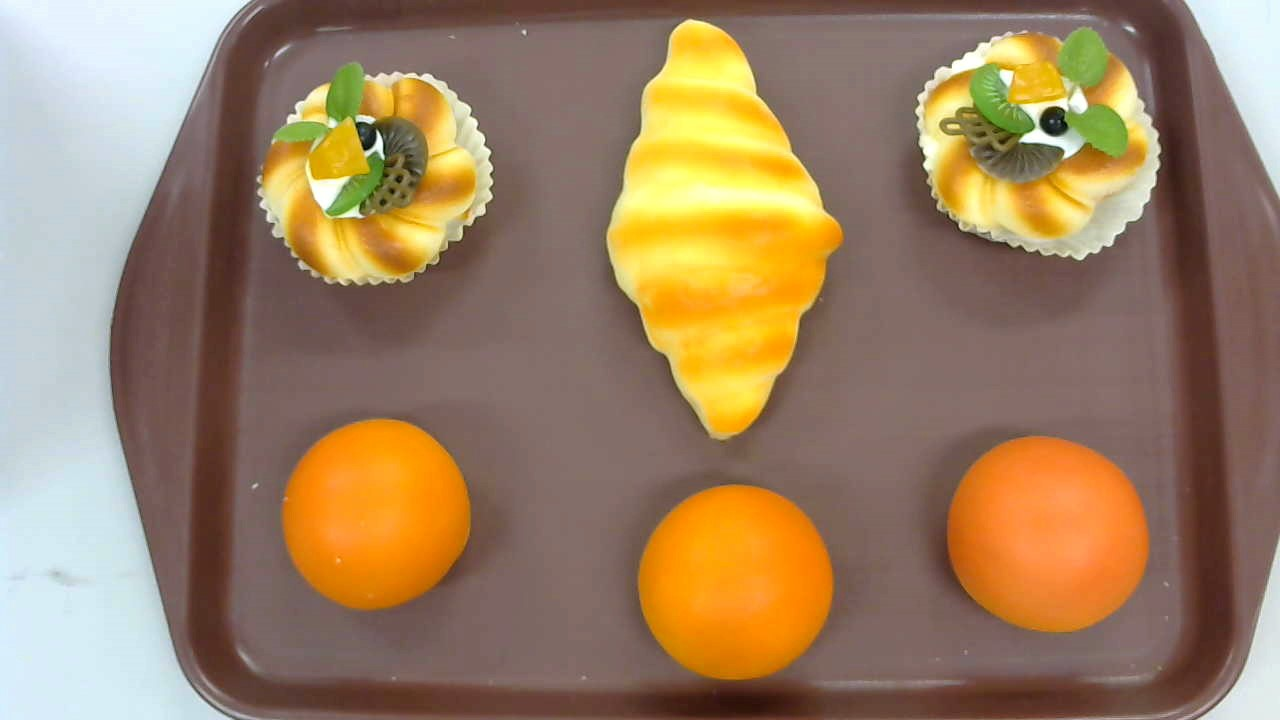bun: (944, 434, 1148, 633), (638, 485, 832, 680), (282, 416, 470, 611)
croissant: (605, 19, 844, 441)
fruit tart: (912, 25, 1162, 260), (256, 60, 492, 287)
